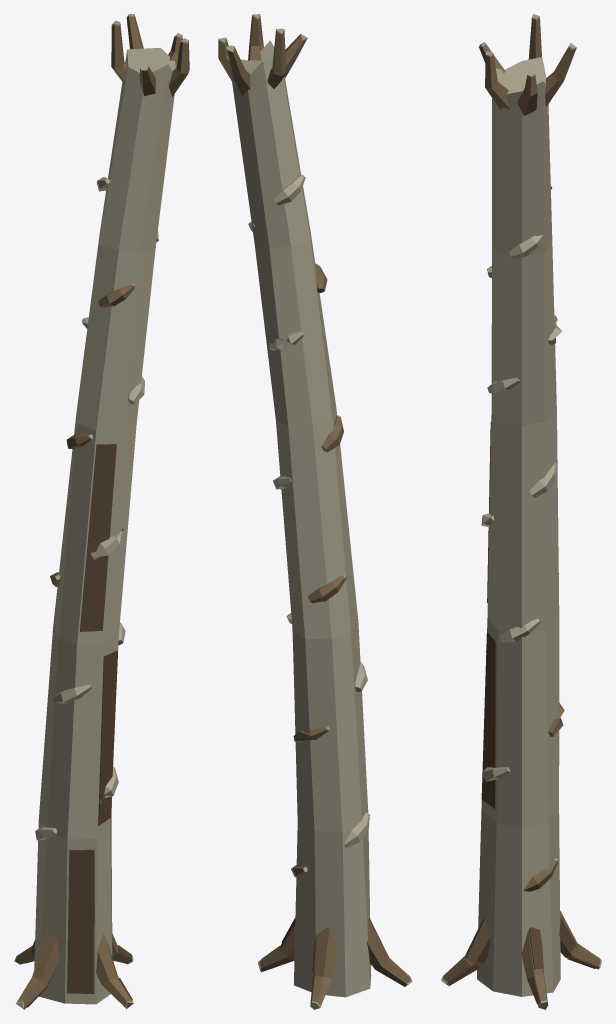
Rendered from prop-tree-palm-dead.glb.
The picture shows the model from 3 angles, left to right: view 1: azimuth 30°, elevation 25°; view 2: azimuth 150°, elevation 25°; view 3: azimuth 270°, elevation 25°; orthographic projection. The views are drawn at different scales.
Visible parts, largest first — view 1: leafless_tree; view 2: leafless_tree; view 3: leafless_tree.
Boxes of the visible parts, box(x1,y1,x2,y2) form: leafless_tree: box(14, 14, 189, 1009); leafless_tree: box(218, 14, 412, 1009); leafless_tree: box(441, 14, 601, 1009).
Bounding box in the file's own units: 0.3735 × 1.87 × 0.2754.
